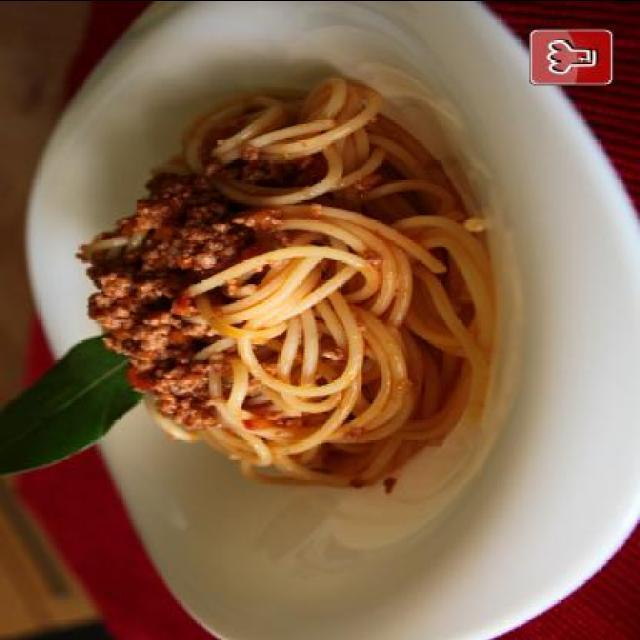Pasta al ragu: (83, 50, 479, 482)
